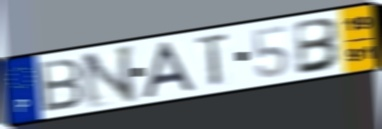5: (250, 23, 290, 80)
A: (139, 39, 198, 101)
B: (293, 16, 343, 77), (36, 56, 85, 114)
N: (79, 42, 139, 111)
T: (195, 30, 232, 90)
